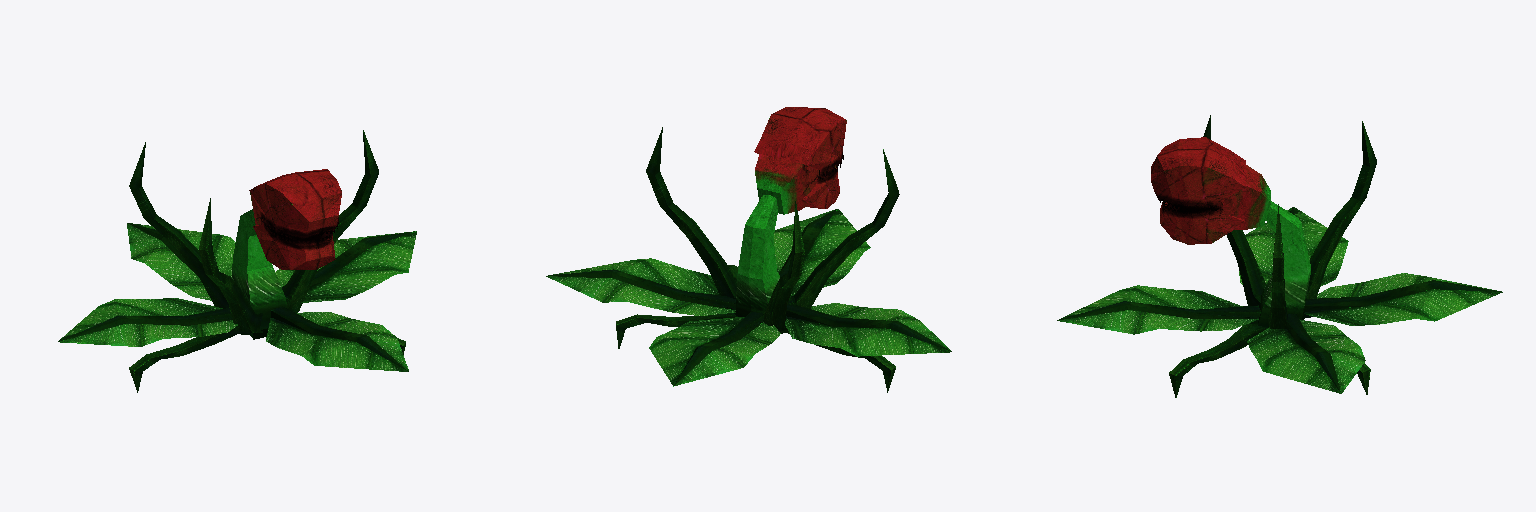
The picture shows the model from 3 angles: view 1: azimuth 30°, elevation 25°; view 2: azimuth 150°, elevation 25°; view 3: azimuth 270°, elevation 25°; orthographic projection.
Visible parts, largest first — view 1: ArmLeftFront, ArmRightMiddle, ArmLeftMiddle, MouthTop, ArmRightBack, Body, MouthBottom, TentacleRightBack, TentacleLeftMiddle, TentacleRightFront, LegRightMiddle; view 2: ArmLeftMiddle, ArmRightMiddle, ArmRightBack, MouthTop, Body, ArmLeftFront, TentacleLeftMiddle, Head, TentacleRightFront, TentacleRightBack, LegLeftBack, MouthBottom (+1 smaller); view 3: ArmRightBack, ArmLeftFront, ArmLeftMiddle, MouthTop, Body, TentacleRightBack, ArmRightMiddle, MouthBottom, Head, TentacleRightFront, LegLeftFront, TentacleLeftMiddle.
Part boxes in pixels (x1,y1,x2,y2): ArmLeftFront: (266, 306, 408, 371); ArmRightMiddle: (58, 298, 237, 346); ArmLeftMiddle: (275, 231, 416, 302); MouthTop: (249, 169, 341, 239); ArmRightBack: (127, 223, 235, 300); Body: (232, 209, 287, 339); MouthBottom: (253, 221, 335, 269); TentacleRightBack: (129, 142, 228, 308); TentacleLeftMiddle: (283, 130, 378, 312); TentacleRightFront: (199, 198, 262, 332); LegRightMiddle: (129, 328, 250, 392); ArmLeftMiddle: (546, 258, 735, 315); ArmRightMiddle: (785, 303, 951, 356); ArmRightBack: (649, 312, 780, 386); MouthTop: (754, 107, 846, 179); Body: (735, 195, 791, 316); ArmLeftFront: (774, 209, 870, 295); TentacleLeftMiddle: (646, 127, 736, 298); Head: (755, 154, 818, 214); TentacleRightFront: (788, 149, 899, 308); TentacleRightBack: (763, 201, 804, 330); LegLeftBack: (616, 313, 737, 348); MouthBottom: (803, 165, 839, 208); ArmRightBack: (1304, 273, 1502, 325); ArmLeftFront: (1057, 285, 1260, 334); ArmLeftMiddle: (1247, 314, 1365, 393); MouthTop: (1151, 137, 1245, 210); Body: (1258, 201, 1310, 326); TentacleRightBack: (1307, 121, 1376, 298); ArmRightMiddle: (1239, 207, 1348, 286); MouthBottom: (1160, 202, 1244, 244); Head: (1223, 165, 1270, 229); TentacleRightFront: (1203, 115, 1265, 306); LegLeftFront: (1169, 323, 1267, 397); TentacleLeftMiddle: (1268, 204, 1287, 328).
Bounding box in the file's own units: 7.88 × 4.26 × 7.95.
Materials: 2 (1 with a texture image).